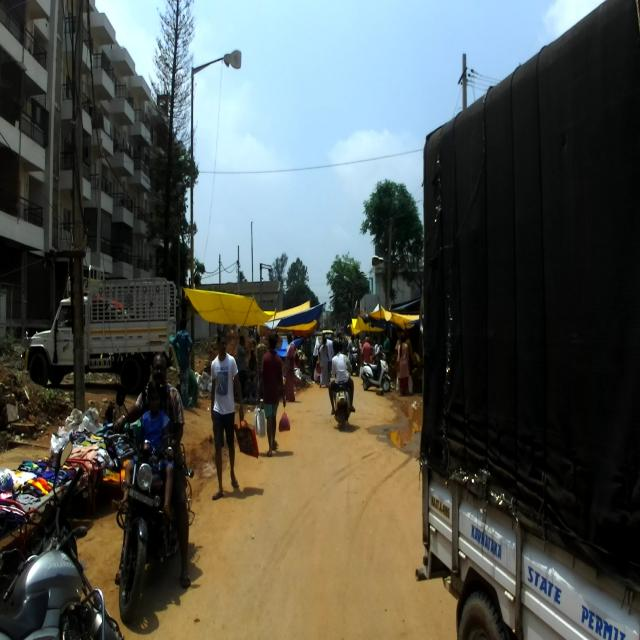motorcycle: (0, 438, 126, 639), (106, 383, 196, 623)
truck: (417, 1, 640, 640), (25, 272, 178, 386)
